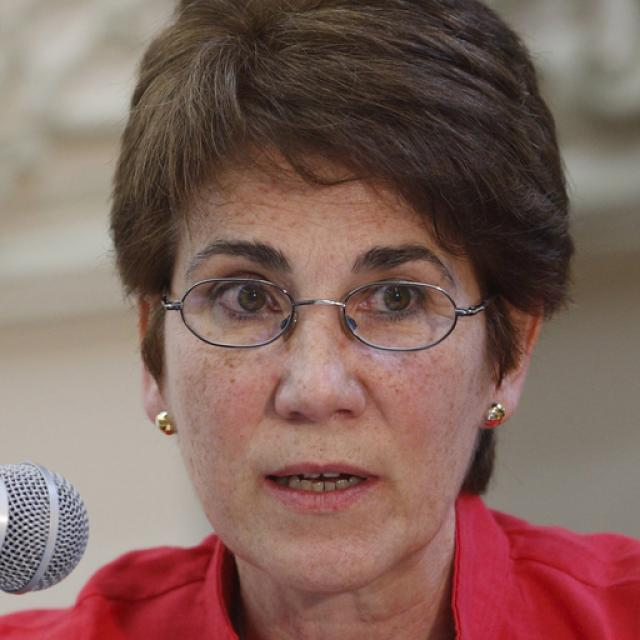Pigmentation: (351, 337, 444, 409), (181, 341, 281, 395)
